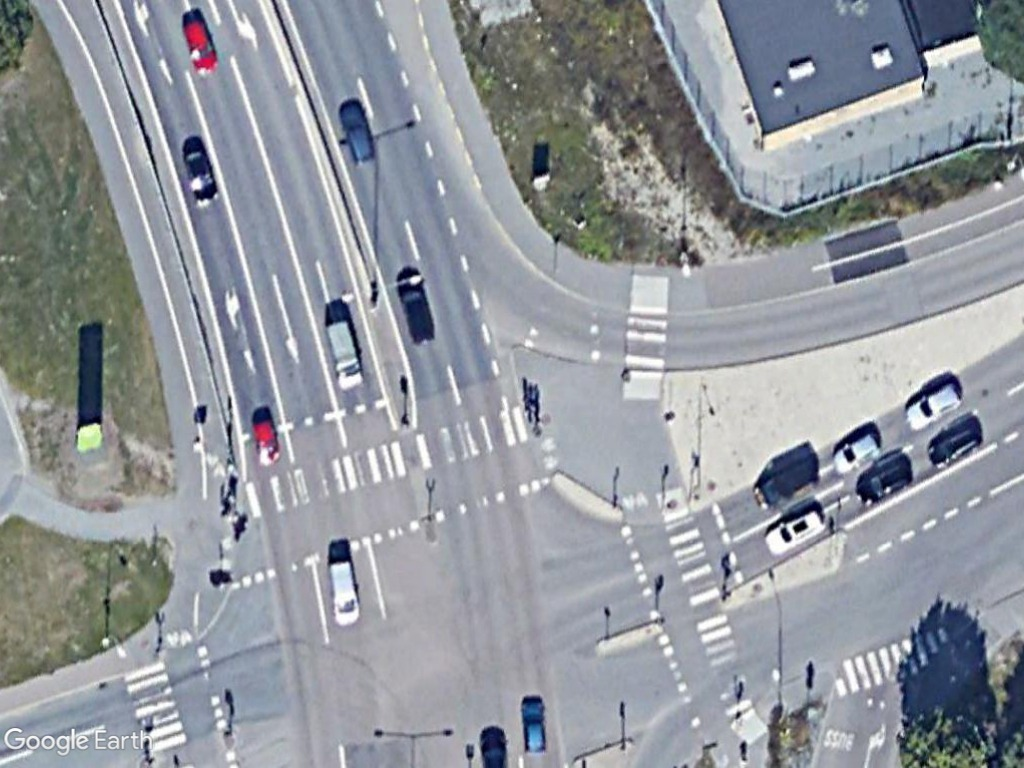car: (899, 373, 968, 435), (758, 501, 830, 560), (849, 449, 917, 510), (923, 415, 989, 471), (177, 137, 223, 216), (335, 94, 380, 170), (176, 12, 226, 80), (826, 424, 887, 477), (398, 273, 437, 352), (514, 696, 552, 756)
van: (324, 312, 368, 398), (322, 554, 368, 633)
